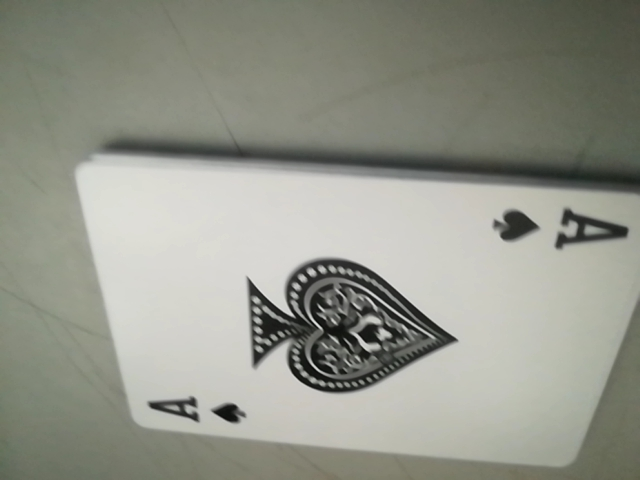ht a: (486, 196, 635, 266)
